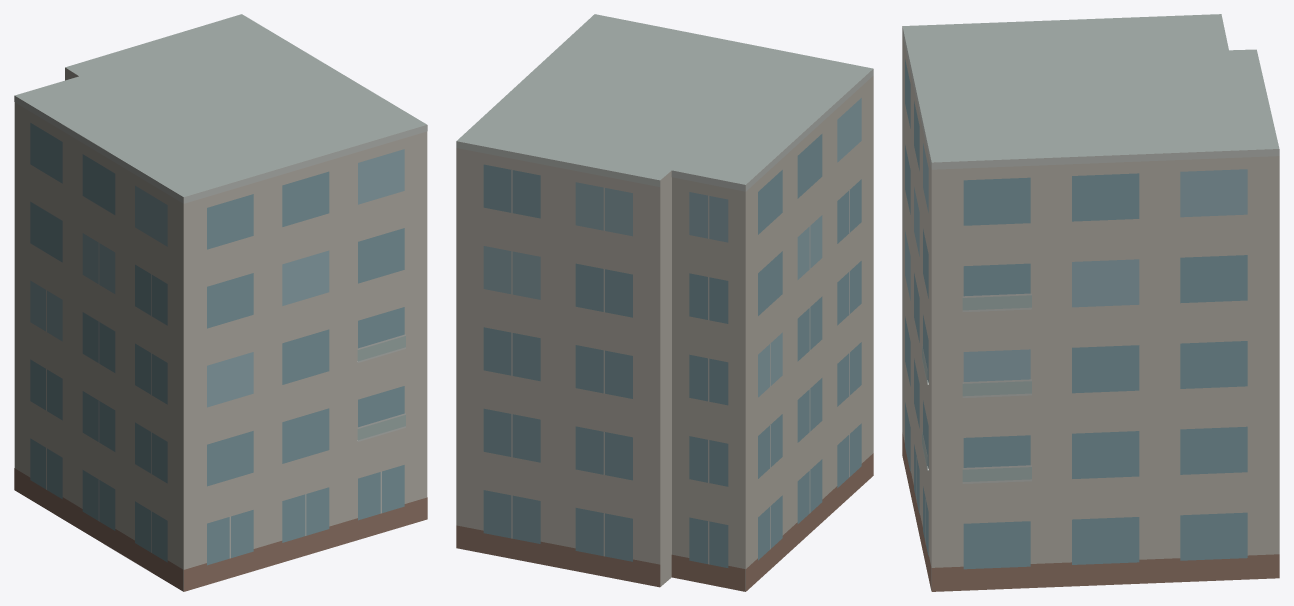
File: survey-upis-32663450.glb
The picture shows the model from 3 angles, left to right: view 1: azimuth 30°, elevation 25°; view 2: azimuth 150°, elevation 25°; view 3: azimuth 270°, elevation 25°; orthographic projection. The views are drawn at different scales.
Visible parts, largest first — view 1: survey-upis-32663450.tmp; view 2: survey-upis-32663450.tmp; view 3: survey-upis-32663450.tmp.
Part boxes in pixels (x1=…): survey-upis-32663450.tmp: x1=14, y1=14, x2=427, y2=591; survey-upis-32663450.tmp: x1=456, y1=14, x2=873, y2=591; survey-upis-32663450.tmp: x1=902, y1=14, x2=1279, y2=591.
Size of the model in its own units: 10.84 by 14.6 by 11.63.
